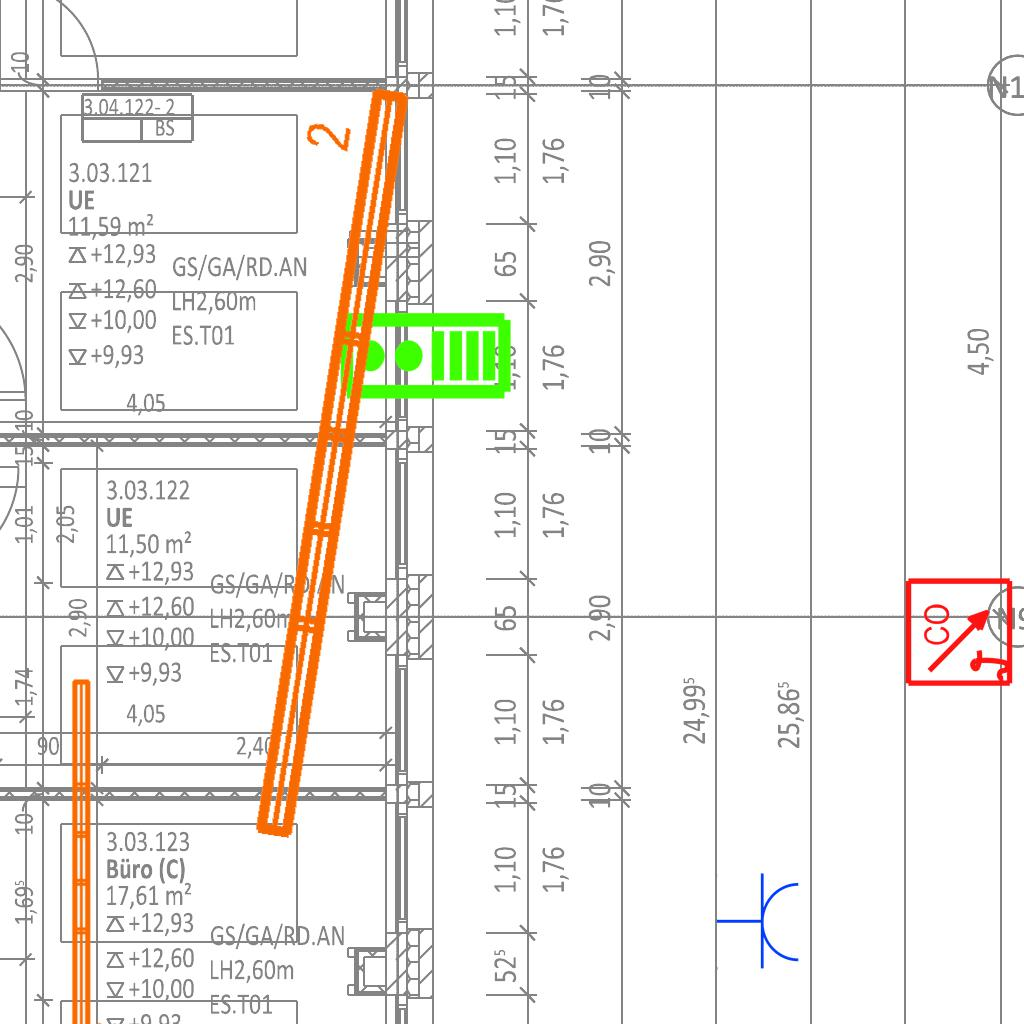Ambulanz_Pendelleuchte_LED: (191, 69, 423, 851), (66, 674, 122, 1024)
Gegensprechanlage_mit_Video: (337, 310, 513, 405)
ROA_Rauchmelder_optisch_mit_Signalgeber_(Sockelsirene): (904, 575, 1017, 688)
Schukosteckdose_einfach: (716, 872, 803, 972)
